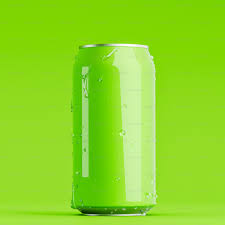can: (72, 43, 156, 217)
